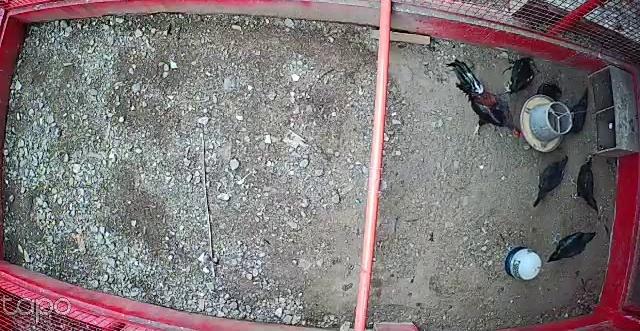Chicken: (529, 153, 573, 209), (566, 151, 603, 210), (546, 222, 591, 266), (560, 86, 597, 136), (502, 55, 541, 95), (535, 81, 568, 101)
Rooster: (447, 57, 525, 139)
